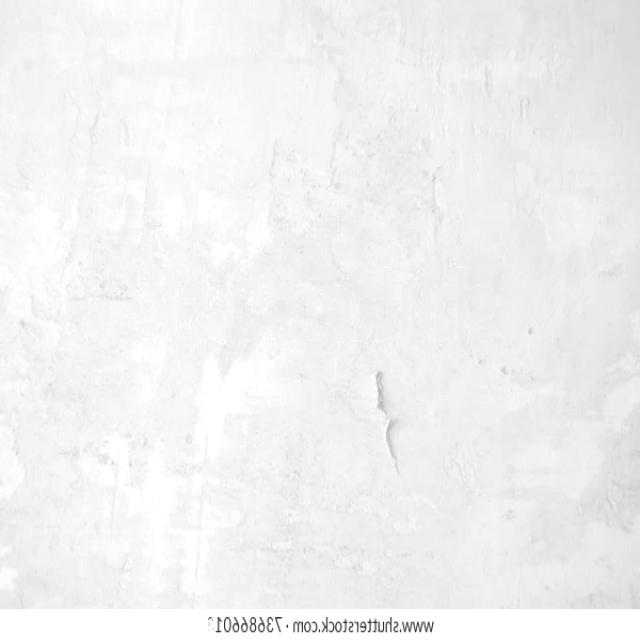rough and patchy surface: (0, 9, 634, 612)
